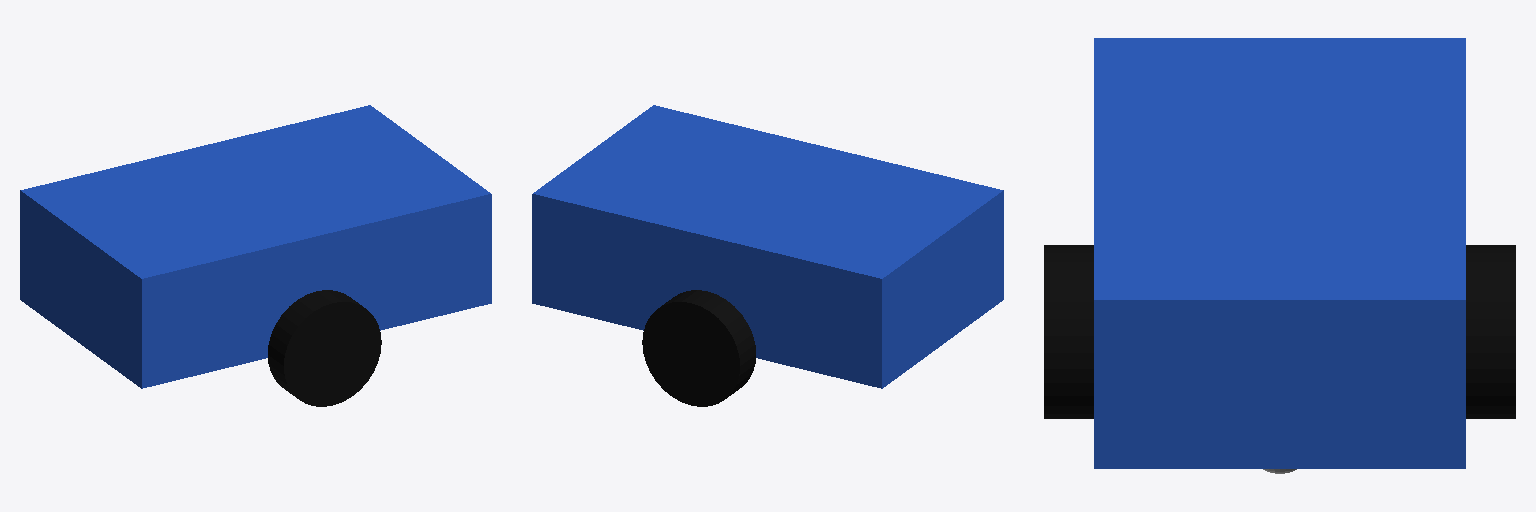
robot.urdf — simple_car:
<?xml version="1.0"?>
<robot name="simple_car" xmlns:xacro="http://www.ros.org/wiki/xacro">

  <!-- ======== base_link ======== -->
  <link name="base_link">
    <visual>
      <geometry>
        <box size="0.5 0.3 0.15"/>
      </geometry>
      <material name="blue">
        <color rgba="0.2 0.4 0.8 1.0"/>
      </material>
    </visual>
    <collision>
      <geometry>
        <box size="0.5 0.3 0.15"/>
      </geometry>
    </collision>
    <inertial>
      <mass value="5.0"/>
      <inertia ixx="0.025" ixy="0" ixz="0"
               iyy="0.055" iyz="0"
               izz="0.065"/>
    </inertial>
  </link>

  <!-- ======== left_wheel ======== -->
  <link name="left_wheel">
    <visual>
      <geometry>
        <cylinder radius="0.07" length="0.04"/>
      </geometry>
      <material name="black">
        <color rgba="0.1 0.1 0.1 1.0"/>
      </material>
    </visual>
    <collision>
      <geometry>
        <cylinder radius="0.07" length="0.04"/>
      </geometry>
    </collision>
    <inertial>
      <mass value="0.5"/>
      <inertia ixx="0.0006" ixy="0" ixz="0"
               iyy="0.0006" iyz="0"
               izz="0.0012"/>
    </inertial>
  </link>

  <joint name="left_wheel_joint" type="continuous">
    <parent link="base_link"/>
    <child link="left_wheel"/>
    <origin xyz="0.0 0.17 -0.07" rpy="1.5708 0 0"/>
    <axis xyz="0 0 -1"/>
  </joint>

  <!-- ======== right_wheel ======== -->
  <link name="right_wheel">
    <visual>
      <geometry>
        <cylinder radius="0.07" length="0.04"/>
      </geometry>
      <material name="black">
        <color rgba="0.1 0.1 0.1 1.0"/>
      </material>
    </visual>
    <collision>
      <geometry>
        <cylinder radius="0.07" length="0.04"/>
      </geometry>
    </collision>
    <inertial>
      <mass value="0.5"/>
      <inertia ixx="0.0006" ixy="0" ixz="0"
               iyy="0.0006" iyz="0"
               izz="0.0012"/>
    </inertial>
  </link>

  <joint name="right_wheel_joint" type="continuous">
    <parent link="base_link"/>
    <child link="right_wheel"/>
    <origin xyz="0.0 -0.17 -0.07" rpy="1.5708 0 0"/>
    <axis xyz="0 0 -1"/>
  </joint>

  <!-- ======== front_caster ======== -->
  <link name="front_caster">
    <visual>
      <geometry>
        <sphere radius="0.03"/>
      </geometry>
      <material name="gray">
        <color rgba="0.6 0.6 0.6 1.0"/>
      </material>
    </visual>
    <collision>
      <geometry>
        <sphere radius="0.03"/>
      </geometry>
    </collision>
    <inertial>
      <mass value="0.1"/>
      <inertia ixx="0.000036" ixy="0" ixz="0"
               iyy="0.000036" iyz="0"
               izz="0.000036"/>
    </inertial>
  </link>

  <joint name="front_caster_joint" type="fixed">
    <parent link="base_link"/>
    <child link="front_caster"/>
    <origin xyz="0.2 0 -0.07"/>
  </joint>

  <!-- ======== rear_caster ======== -->
  <link name="rear_caster">
    <visual>
      <geometry>
        <sphere radius="0.03"/>
      </geometry>
      <material name="gray">
        <color rgba="0.6 0.6 0.6 1.0"/>
      </material>
    </visual>
    <collision>
      <geometry>
        <sphere radius="0.03"/>
      </geometry>
    </collision>
    <inertial>
      <mass value="0.1"/>
      <inertia ixx="0.000036" ixy="0" ixz="0"
               iyy="0.000036" iyz="0"
               izz="0.000036"/>
    </inertial>
  </link>

  <joint name="rear_caster_joint" type="fixed">
    <parent link="base_link"/>
    <child link="rear_caster"/>
    <origin xyz="-0.2 0 -0.07"/>
  </joint>

</robot>

--- Facts derived from the render (not from the file) ---
Views: 3 orthographic renders of the robot side by side, from view 1: azimuth 30°, elevation 25°; view 2: azimuth 150°, elevation 25°; view 3: azimuth 270°, elevation 25°.
Robot: simple_car — 5 links, 4 joints (2 continuous, 2 fixed); root link base_link; default pose: every joint at zero.
Visible links, largest first — view 1: base_link, right_wheel; view 2: base_link, left_wheel; view 3: base_link, left_wheel, right_wheel.
Link boxes in pixels (<box>): base_link: <box>20,105,491,388</box>; right_wheel: <box>268,290,381,406</box>; base_link: <box>532,105,1003,388</box>; left_wheel: <box>642,290,755,406</box>; base_link: <box>1094,38,1465,468</box>; left_wheel: <box>1466,245,1515,418</box>; right_wheel: <box>1044,245,1093,418</box>.
Size in the robot's own frame: 0.5 by 0.38 by 0.215 metres.
Geometry: primitives only (box / cylinder / sphere), no mesh files.
